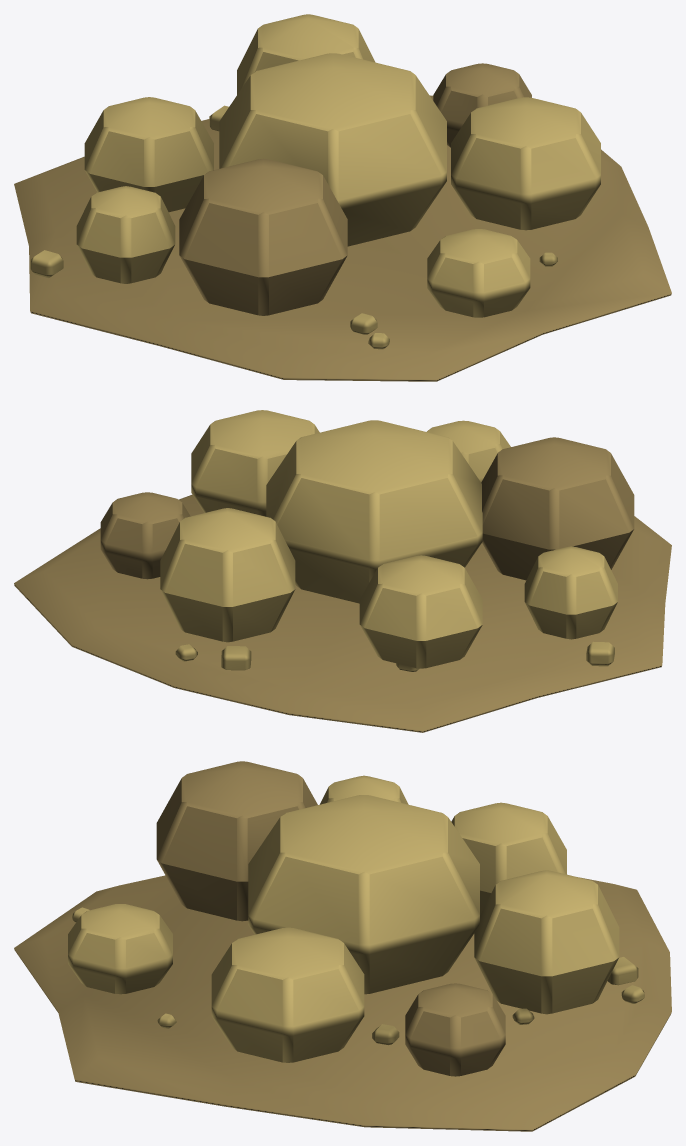
File: ore_field.glb
3 views of the same model, one above another, from view 1: azimuth 30°, elevation 25°; view 2: azimuth 150°, elevation 25°; view 3: azimuth 270°, elevation 25° (orthographic). The views are drawn at different scales.
Parts seen in each view (by area): view 1: Body; view 2: Body; view 3: Body.
Boxes of the visible parts, left/top/right/bottom form: Body: left=14, top=14, right=671, bottom=381; Body: left=14, top=410, right=671, bottom=732; Body: left=14, top=761, right=671, bottom=1131.
Bounding box in the file's own units: 4.63 × 1.26 × 4.32.
